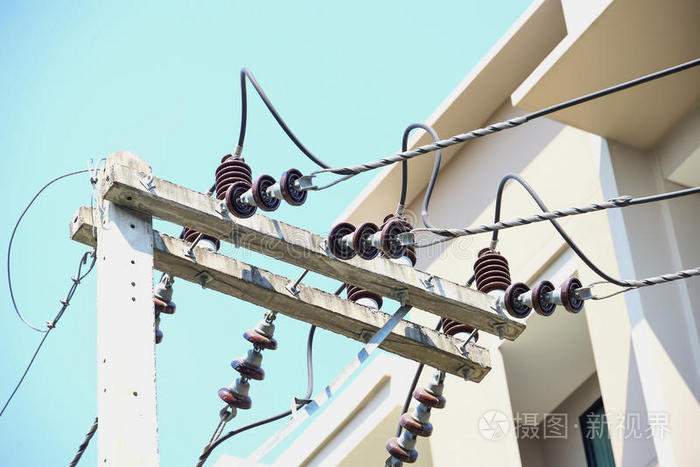insulator: (218, 328, 278, 412), (386, 386, 447, 466), (224, 167, 305, 218), (328, 217, 410, 262), (503, 279, 587, 317)
